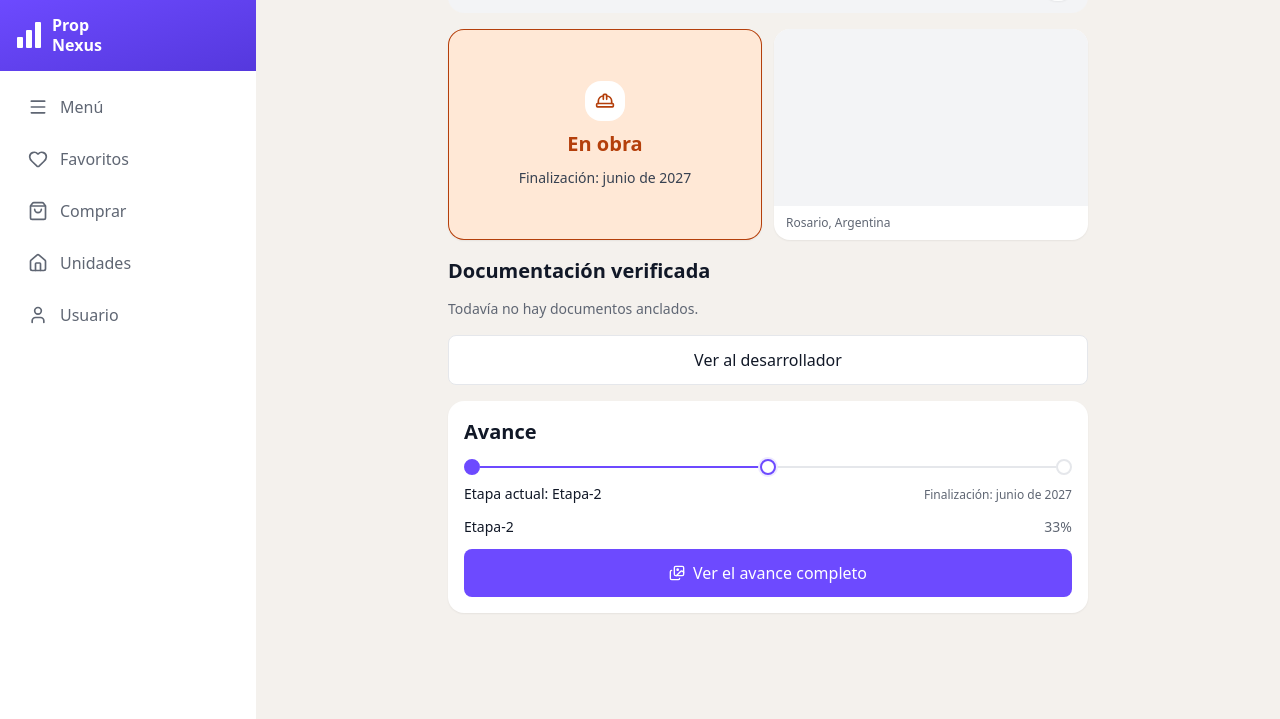
Test case: /project/:projectId (investor) › INV-DEVELOPER-LINK-004: con organización, el enlace lleva al perfil del desarrollador
(page scrolled)
What coordinates should you click on to do the following:
click the button with test id "INV-DEVELOPER-LINK-004"
I would click on:
 (768, 360)
Its box is [448,335,1088,385].
(page scrolled)
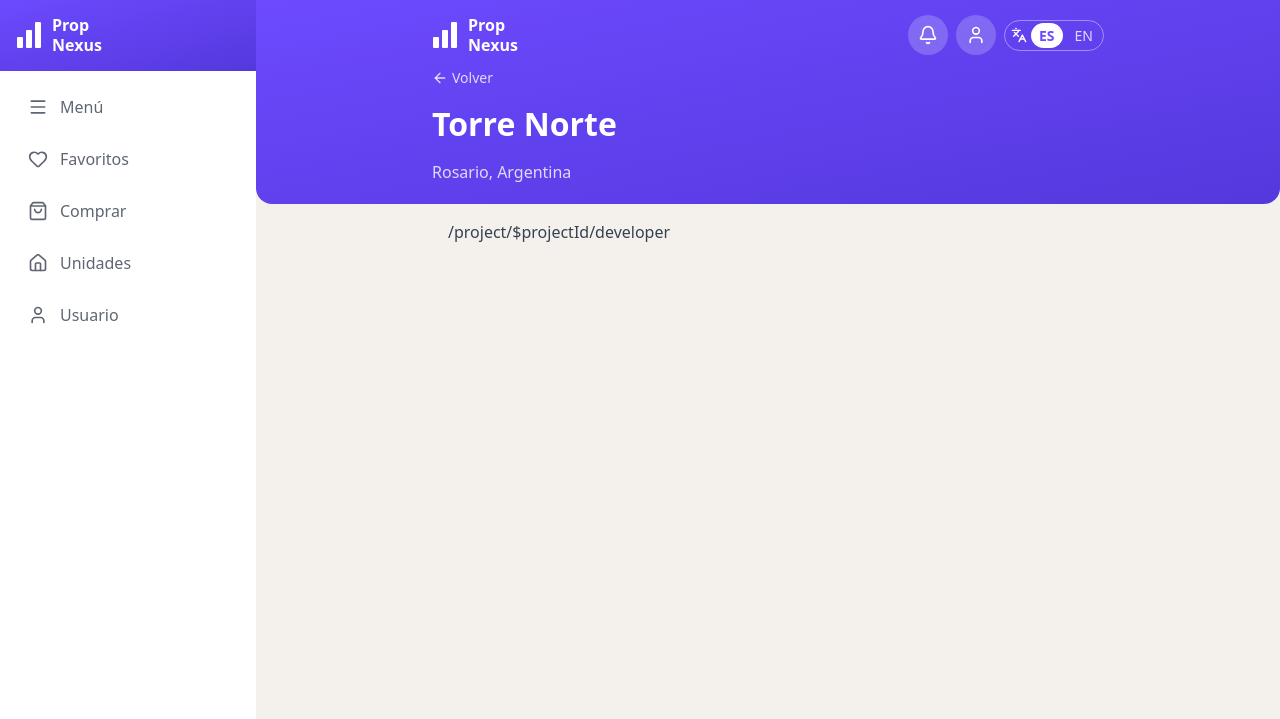
Expected: the text "/project/$projectId/developer" is shown, [448,221,670,243]
